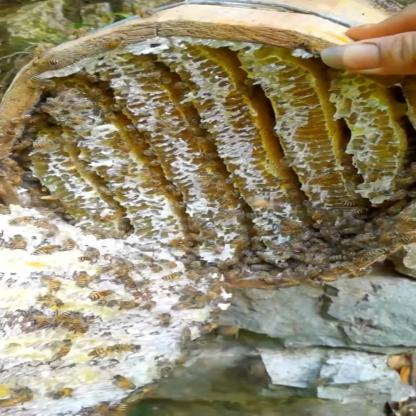bee: (0, 77, 155, 168), (209, 213, 404, 283), (48, 256, 198, 336), (0, 373, 153, 416), (312, 160, 416, 212), (0, 342, 163, 375), (2, 297, 93, 339), (10, 232, 53, 262), (12, 208, 56, 231)
